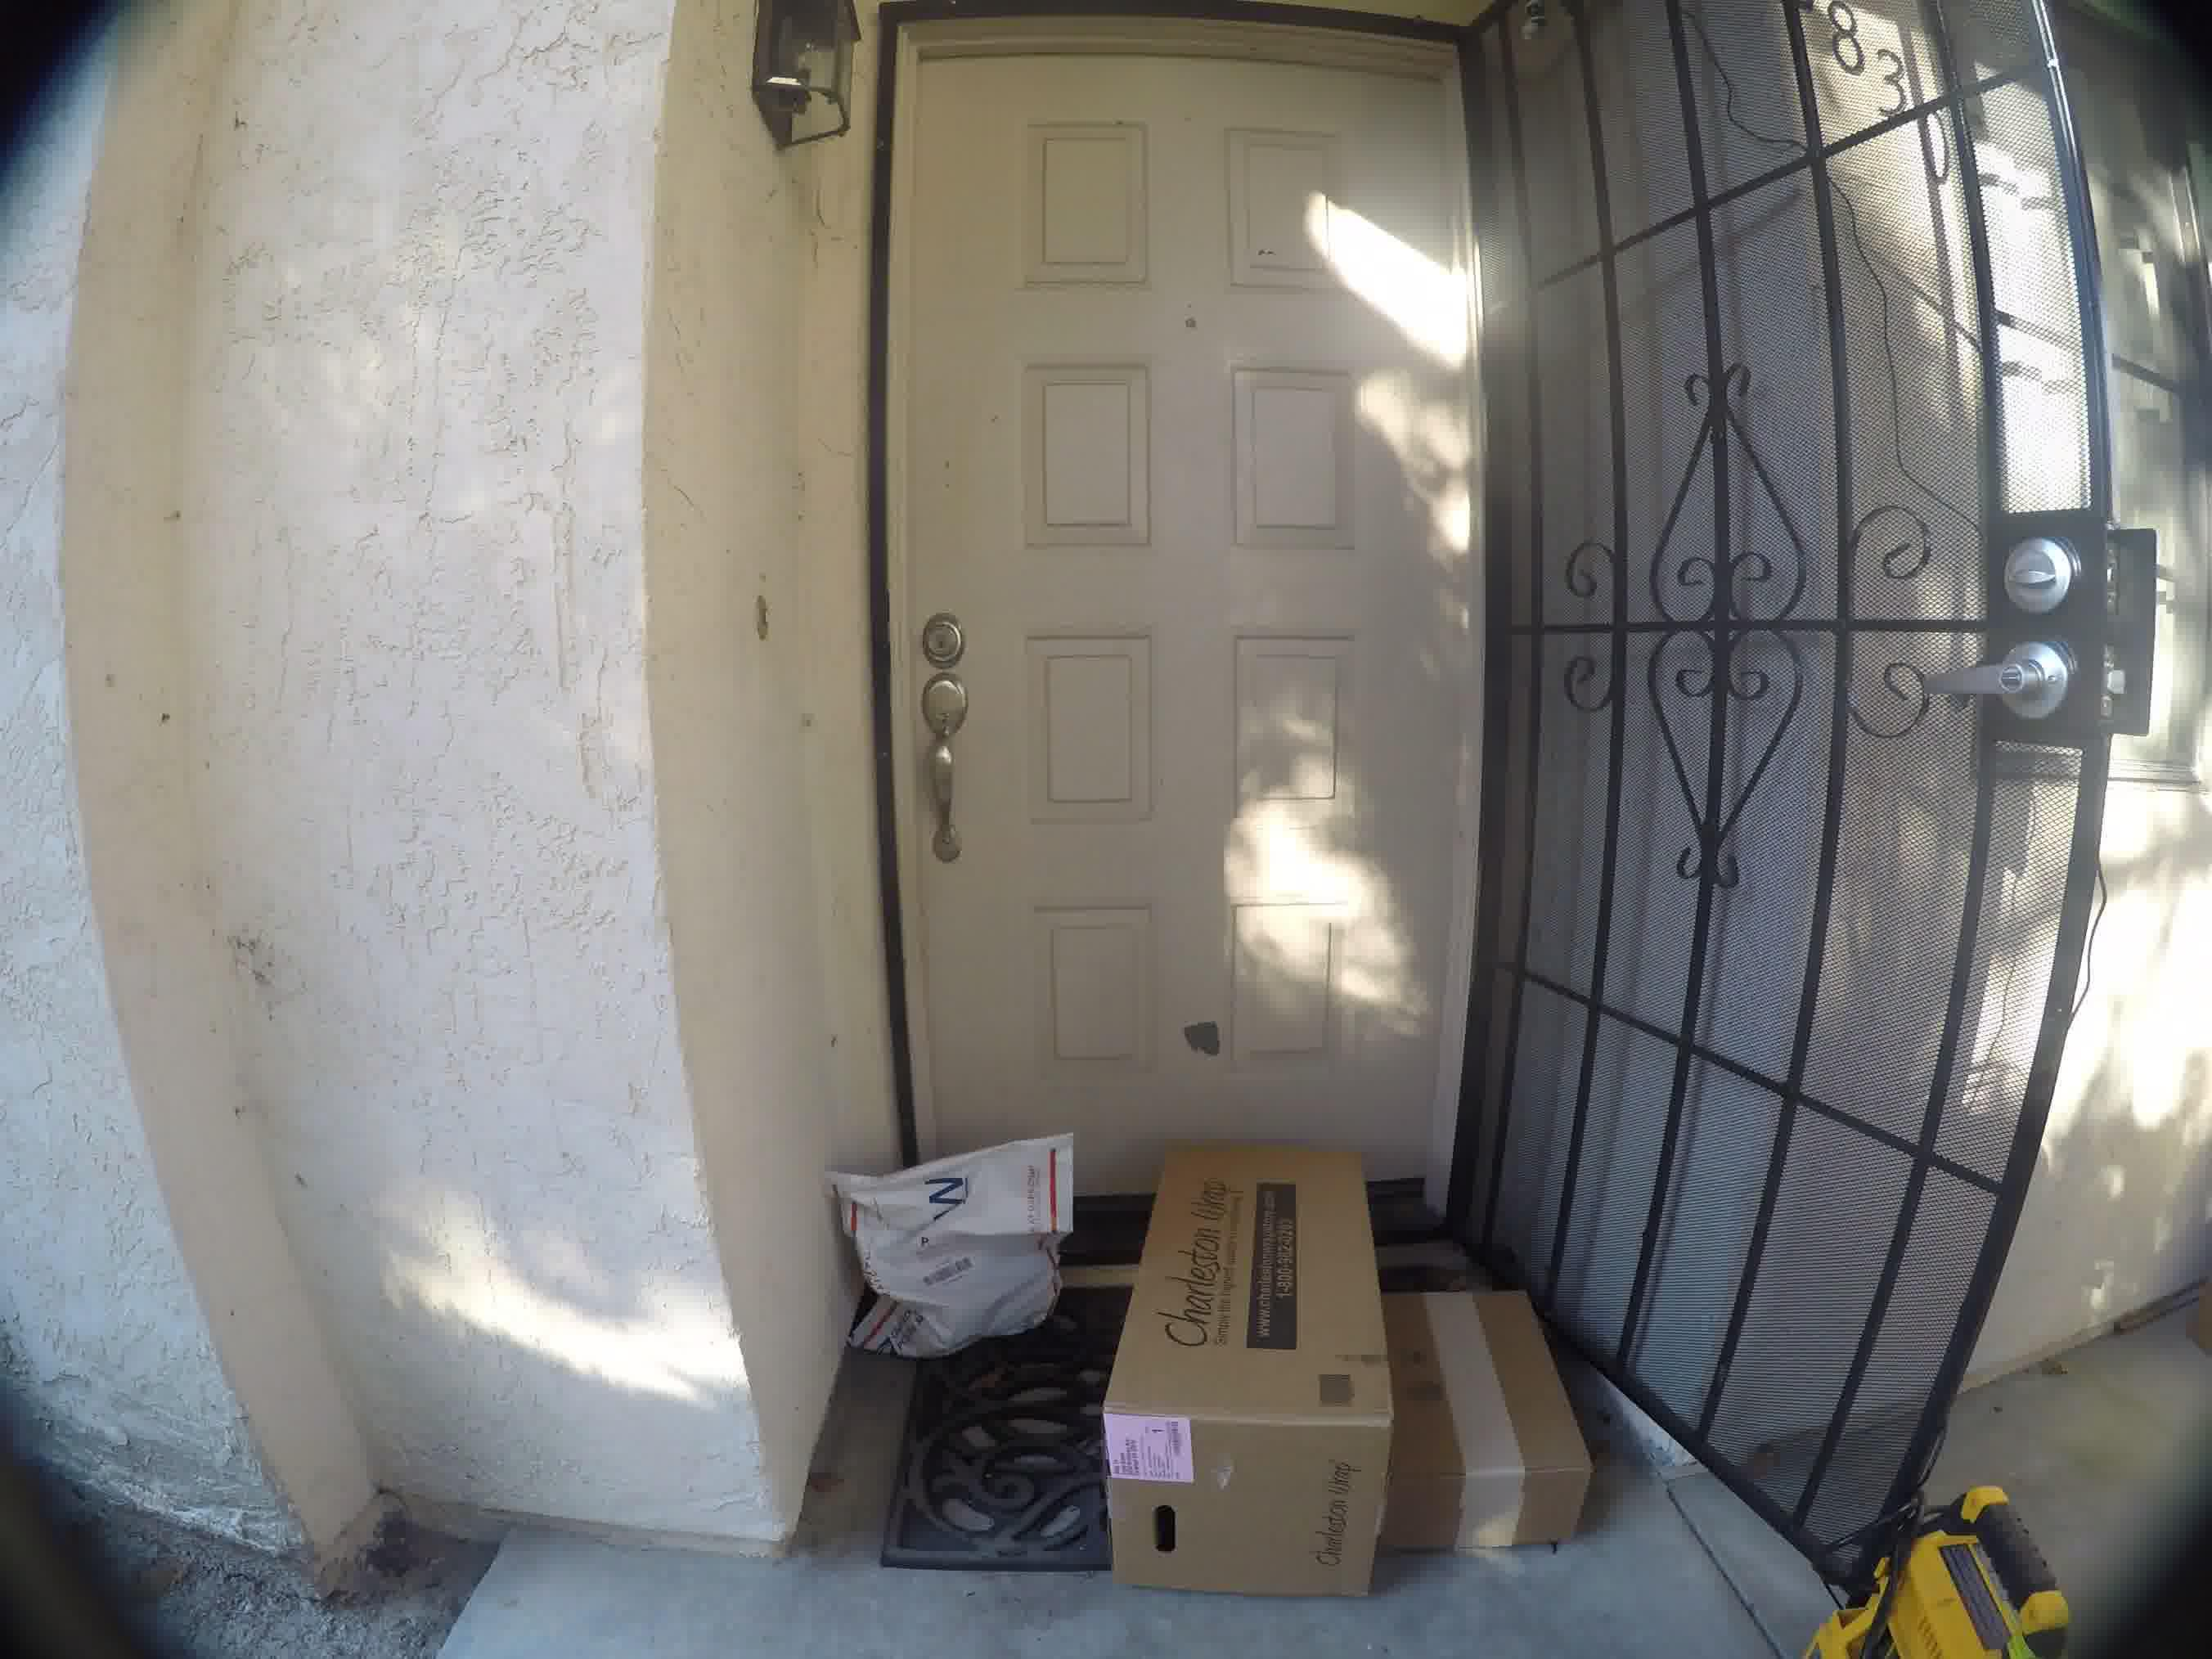box: (1116, 1114, 1402, 1614), (1411, 1283, 1609, 1561)
plastic_bag: (836, 1110, 1069, 1358)
